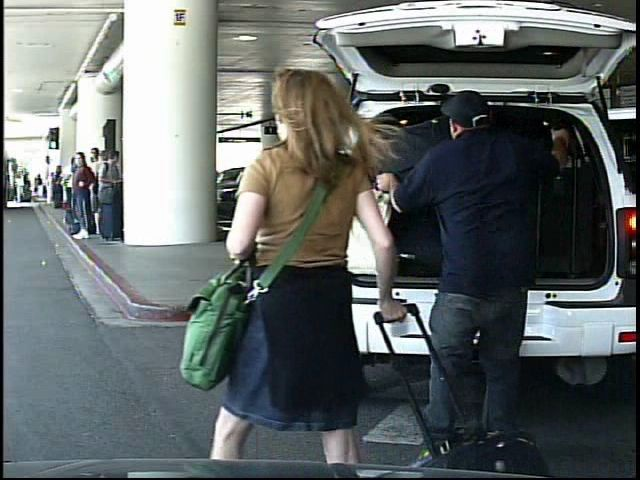person: (219, 58, 403, 468), (398, 85, 559, 434), (15, 174, 26, 205), (35, 172, 46, 200)
